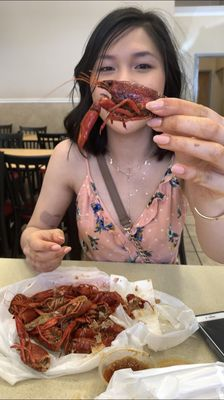curry: (2, 259, 224, 398)
pasta: (1, 148, 53, 259)
